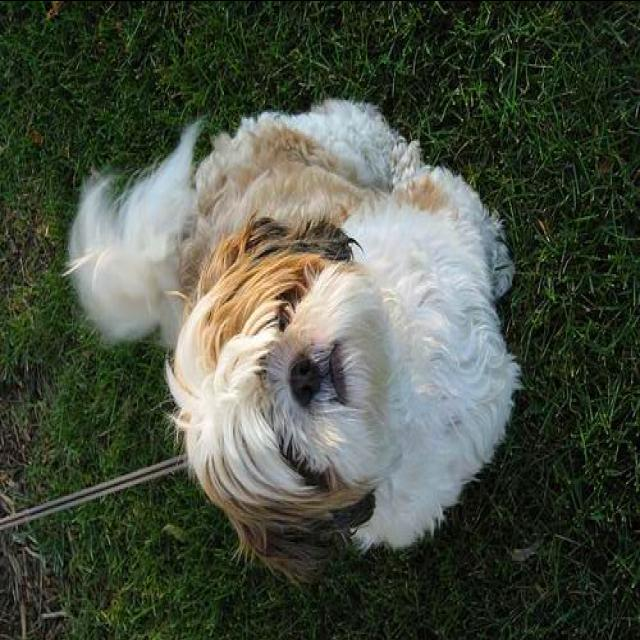shih_tzu: (55, 96, 522, 584)
